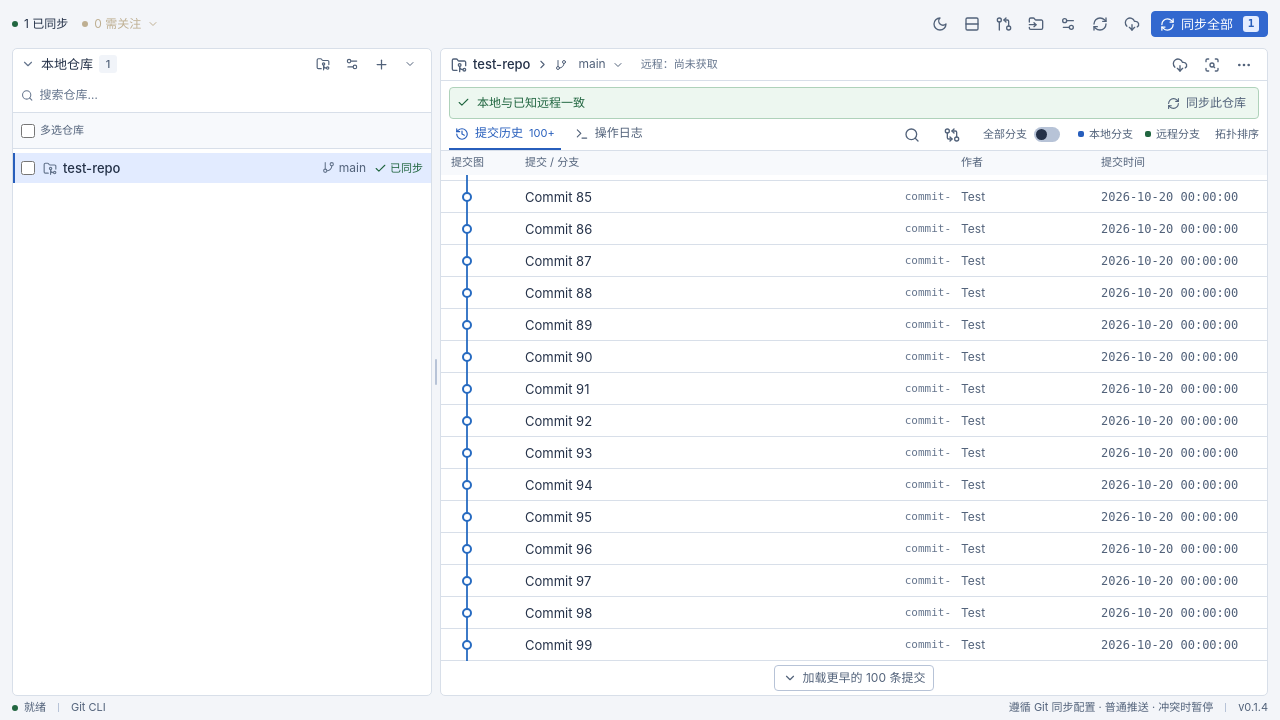
Test case: uses the latest scope for retry and a sync started before toggling
(page scrolled)
expect the text "100+" is shown: met, box [529,126,555,141]
Click the button "同步此仓库". click: coordinates (1206, 103)
box: [1162,90,1251,116]
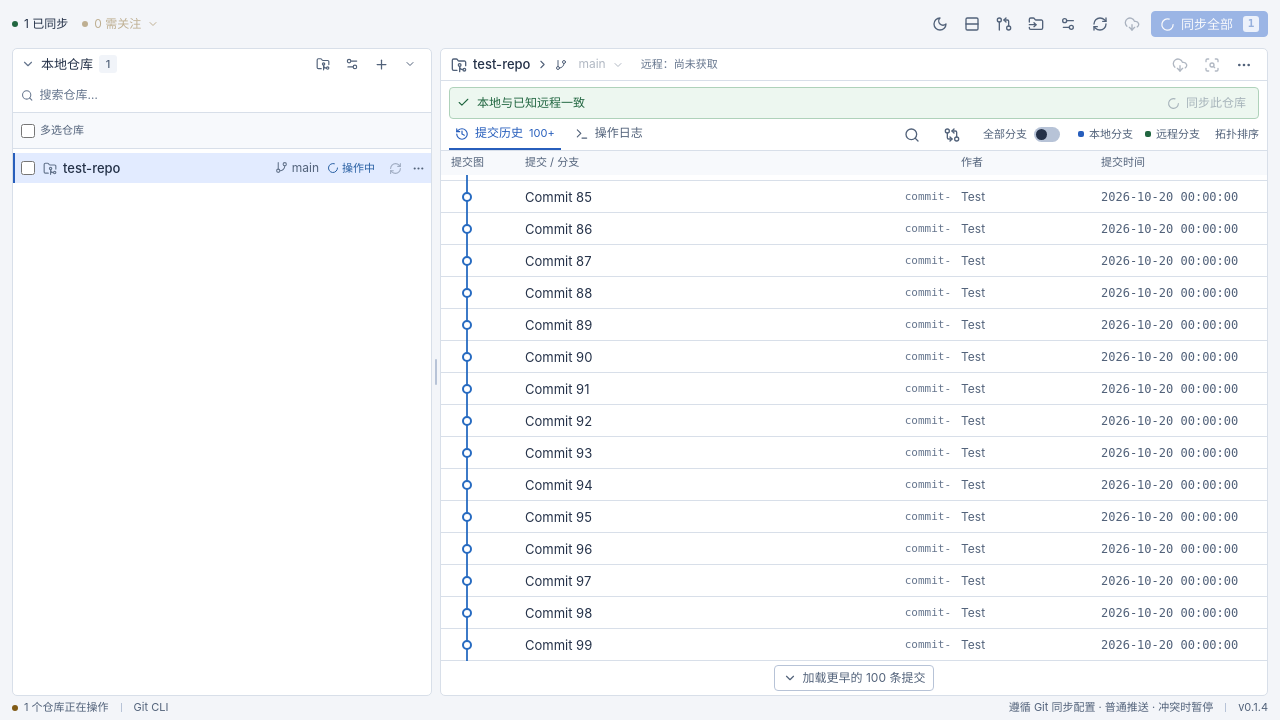
Click the switch named "显示全部分支". click: coordinates (1022, 134)
box: [979,122,1064,148]
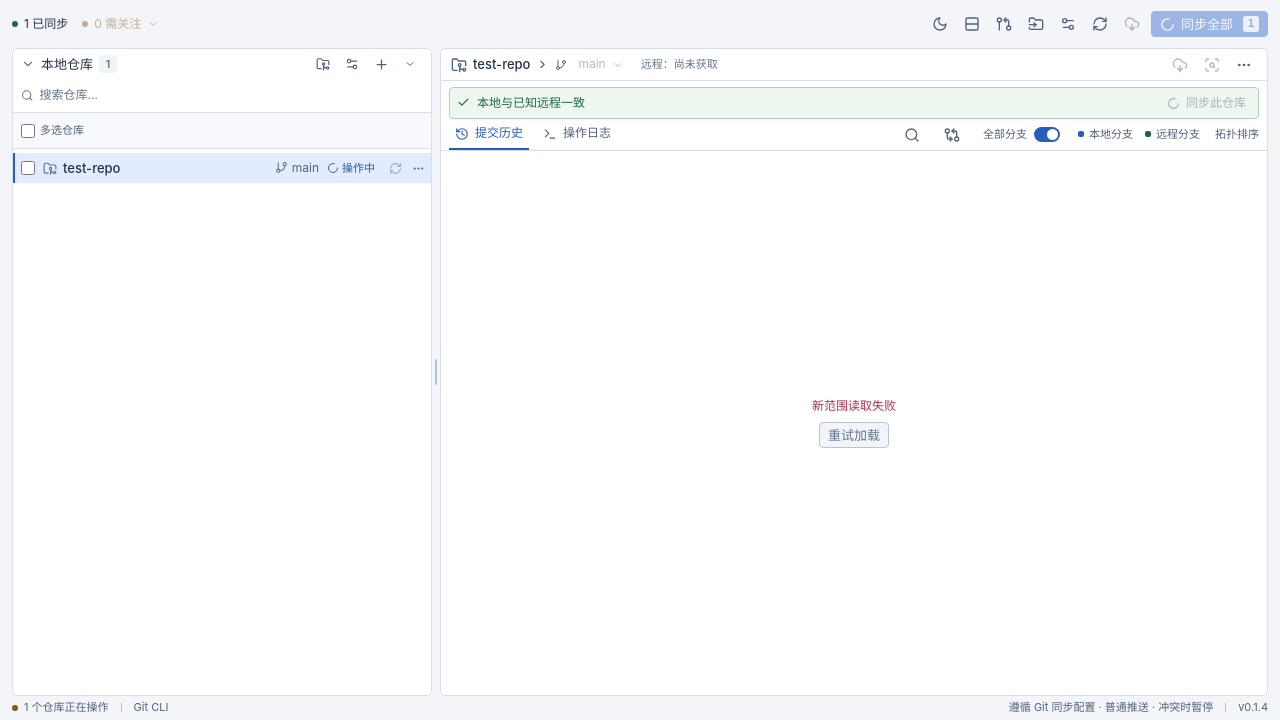
expect the text "新范围读取失败" is shown: met, box [812,398,896,414]
Click the button "重试加载". click: coordinates (854, 435)
box: [819,422,889,448]
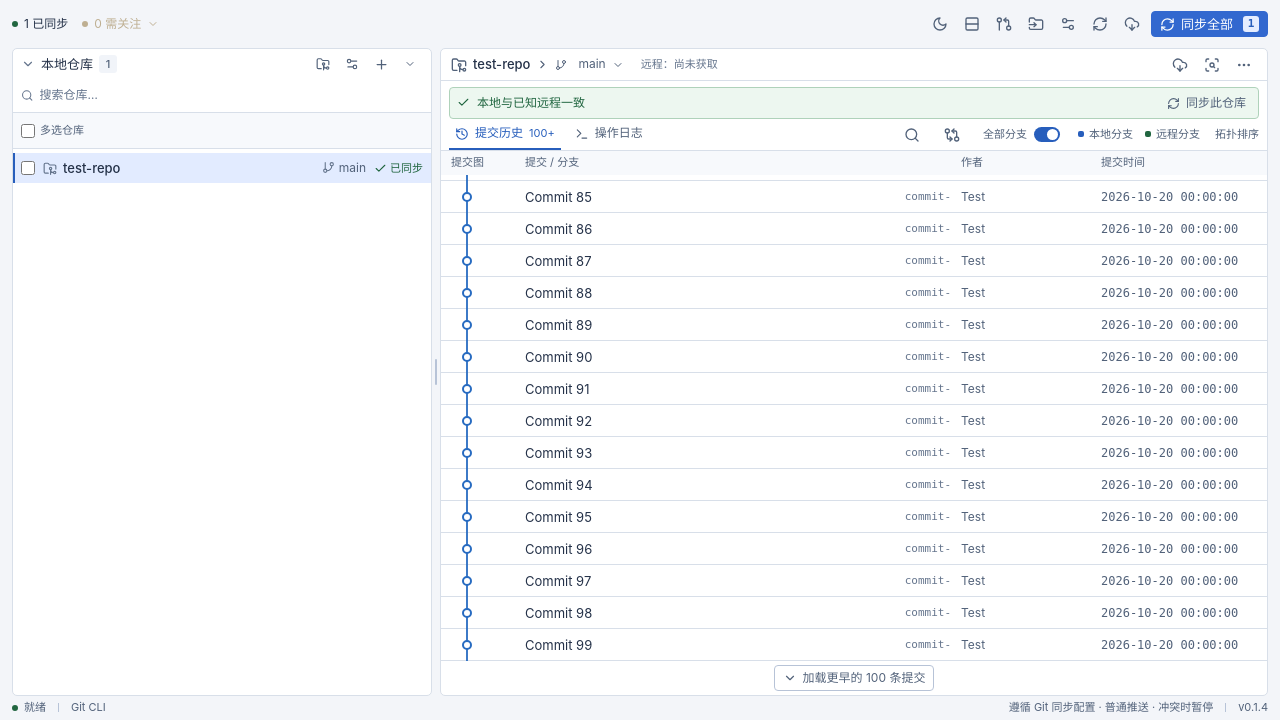
expect the text "100+" is shown: met, box [529,126,555,141]
